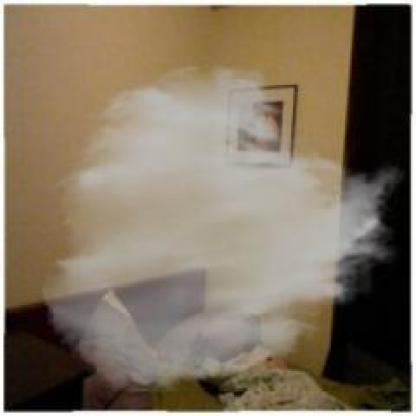Smoke: (39, 62, 406, 396)
